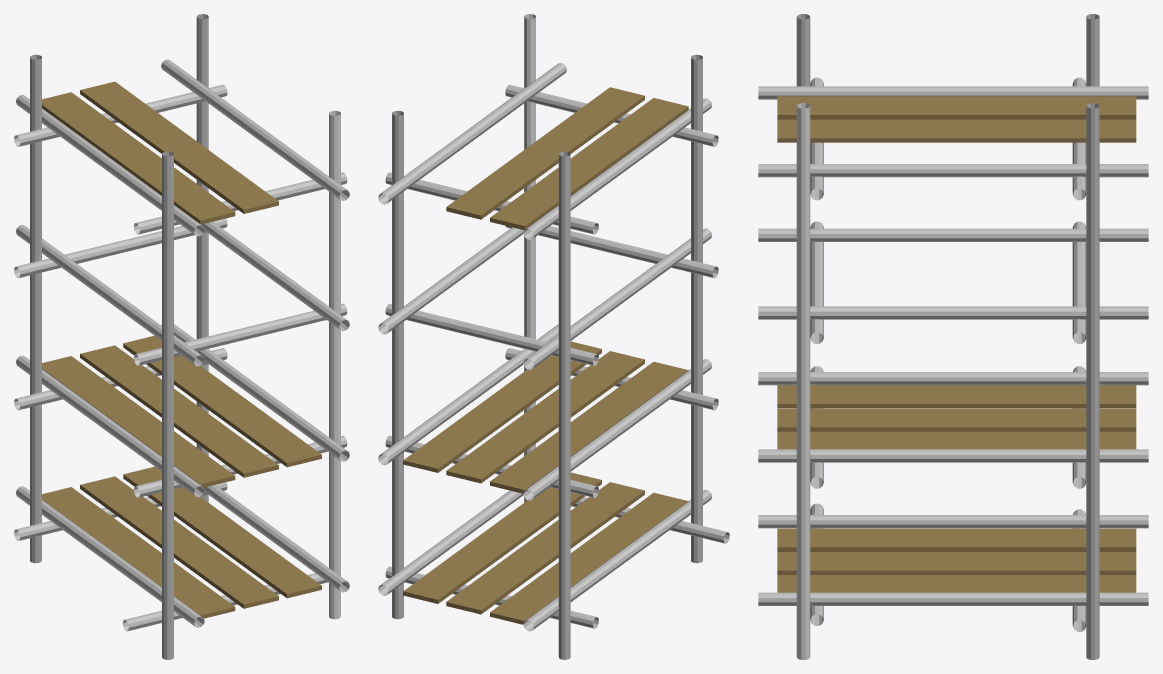
File: scaffolding6.fbx
The picture shows the model from 3 angles, left to right: view 1: azimuth 30°, elevation 25°; view 2: azimuth 150°, elevation 25°; view 3: azimuth 270°, elevation 25°; orthographic projection. The views are drawn at different scales.
Visible parts, largest first — view 1: pCube58, pCylinder48, pCube57, pCube53, pCube31, pCube56, pCube52, pCylinder87, pCube61, pCube50, pCylinder36, pCylinder47 (+16 smaller); view 2: pCylinder87, pCube58, pCube57, pCube53, pCube31, pCube56, pCube52, pCube61, pCylinder48, pCube50, pCylinder47, pCylinder74 (+16 smaller); view 3: pCylinder36, pCube31, pCube58, pCube57, pCube61, pCube50, pCylinder47, pCube53, pCube52, pCube56, pCylinder52, pCylinder42 (+12 smaller).
Part boxes in pixels (left/top/right/bottom): pCube58: left=80, top=81, right=278, bottom=213; pCylinder48: left=162, top=151, right=173, bottom=659; pCube57: left=80, top=345, right=278, bottom=477; pCube53: left=80, top=476, right=278, bottom=608; pCube31: left=42, top=92, right=235, bottom=224; pCube56: left=123, top=466, right=321, bottom=598; pCube52: left=123, top=335, right=321, bottom=467; pCylinder87: left=30, top=54, right=41, bottom=563; pCube61: left=42, top=356, right=235, bottom=487; pCube50: left=42, top=487, right=235, bottom=618; pCylinder36: left=329, top=110, right=340, bottom=619; pCylinder47: left=196, top=14, right=208, bottom=502; pCylinder87: left=558, top=151, right=570, bottom=659; pCube58: left=446, top=87, right=644, bottom=219; pCube57: left=446, top=351, right=644, bottom=483; pCube53: left=446, top=482, right=644, bottom=614; pCube31: left=490, top=98, right=688, bottom=229; pCube56: left=403, top=472, right=601, bottom=603; pCube52: left=403, top=341, right=601, bottom=472; pCube61: left=490, top=361, right=688, bottom=493; pCylinder48: left=691, top=54, right=702, bottom=563; pCube50: left=490, top=492, right=688, bottom=624; pCylinder47: left=392, top=110, right=403, bottom=619; pCylinder74: left=378, top=63, right=566, bottom=204; pCylinder36: left=796, top=103, right=810, bottom=659; pCube31: left=777, top=96, right=1136, bottom=119; pCube58: left=777, top=119, right=1136, bottom=142; pCube57: left=777, top=408, right=1136, bottom=431; pCube61: left=777, top=385, right=1136, bottom=408; pCube50: left=777, top=528, right=1136, bottom=551; pCylinder47: left=1086, top=103, right=1099, bottom=659; pCube53: left=777, top=552, right=1136, bottom=574; pCube52: left=777, top=431, right=1136, bottom=449; pCube56: left=777, top=575, right=1136, bottom=592; pCylinder52: left=758, top=306, right=1148, bottom=319; pCylinder42: left=758, top=449, right=1148, bottom=462.
Size of the model in its own units: 10.43 by 22.96 by 14.74.
